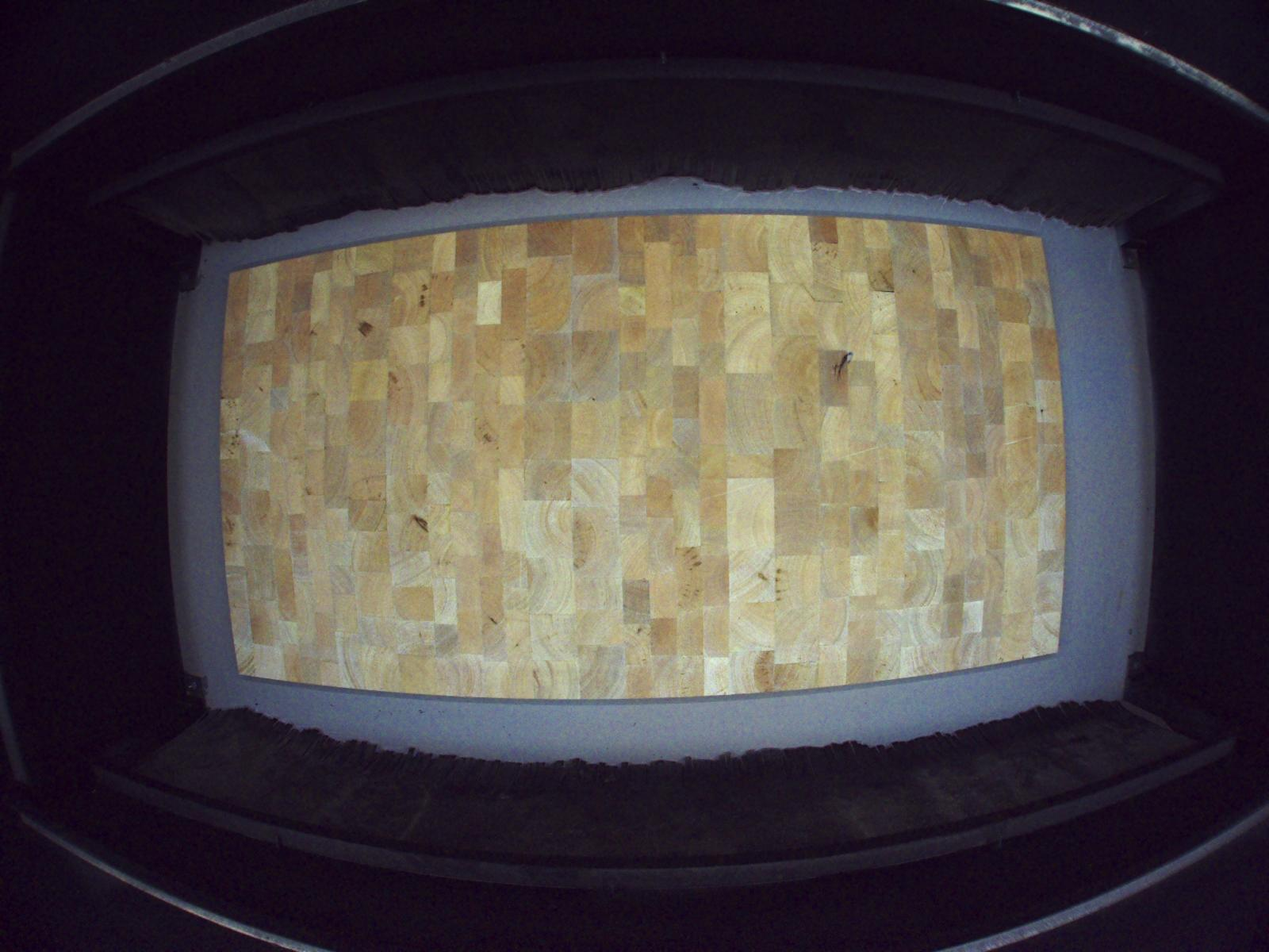nudillo: (831, 352, 849, 383)
